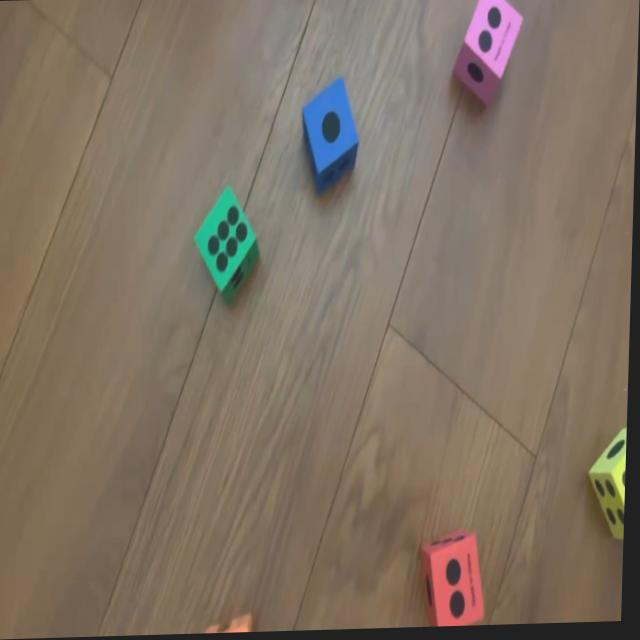blue_block: (300, 78, 360, 193)
red_block: (424, 530, 490, 630)
